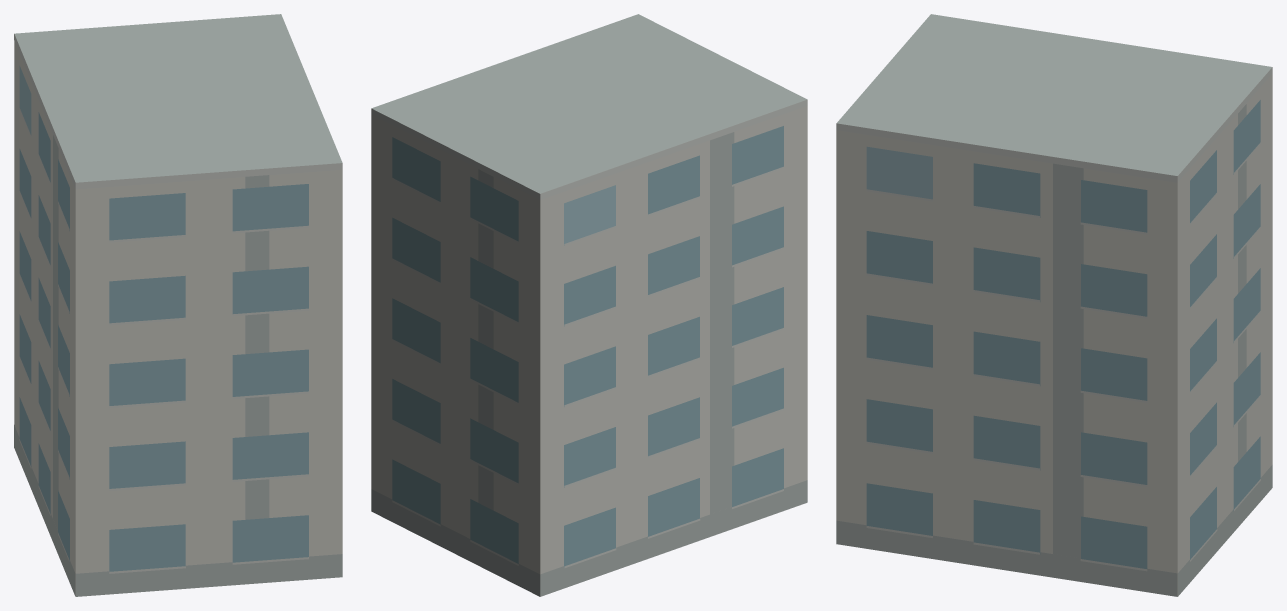
Rendered from residential-3b5931fc-7d71-4836-8819-df72845ad3e4.glb.
3 views of the same model, side by side, from view 1: azimuth 30°, elevation 25°; view 2: azimuth 150°, elevation 25°; view 3: azimuth 270°, elevation 25° (orthographic). The views are drawn at different scales.
Visible parts, largest first — view 1: residential-3b5931fc-7d71-4836-8819-df72845ad3e4.tmp; view 2: residential-3b5931fc-7d71-4836-8819-df72845ad3e4.tmp; view 3: residential-3b5931fc-7d71-4836-8819-df72845ad3e4.tmp.
Boxes of the visible parts, x1=… form: residential-3b5931fc-7d71-4836-8819-df72845ad3e4.tmp: x1=14, y1=14, x2=342, y2=596; residential-3b5931fc-7d71-4836-8819-df72845ad3e4.tmp: x1=371, y1=14, x2=807, y2=596; residential-3b5931fc-7d71-4836-8819-df72845ad3e4.tmp: x1=836, y1=14, x2=1272, y2=596.
Bounding box in the file's own units: 12.61 × 15.25 × 14.34.
